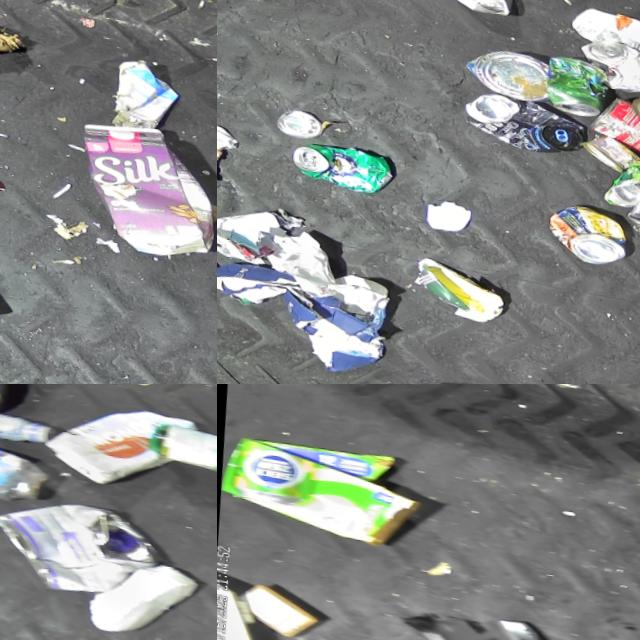can: (0, 483, 166, 605), (457, 80, 585, 153), (285, 134, 392, 193), (541, 191, 627, 261), (459, 35, 549, 97), (583, 82, 640, 165), (539, 47, 609, 113), (574, 27, 640, 90), (578, 122, 640, 167), (597, 145, 640, 207), (272, 103, 322, 139)
non_white_jug: (68, 106, 217, 256)
